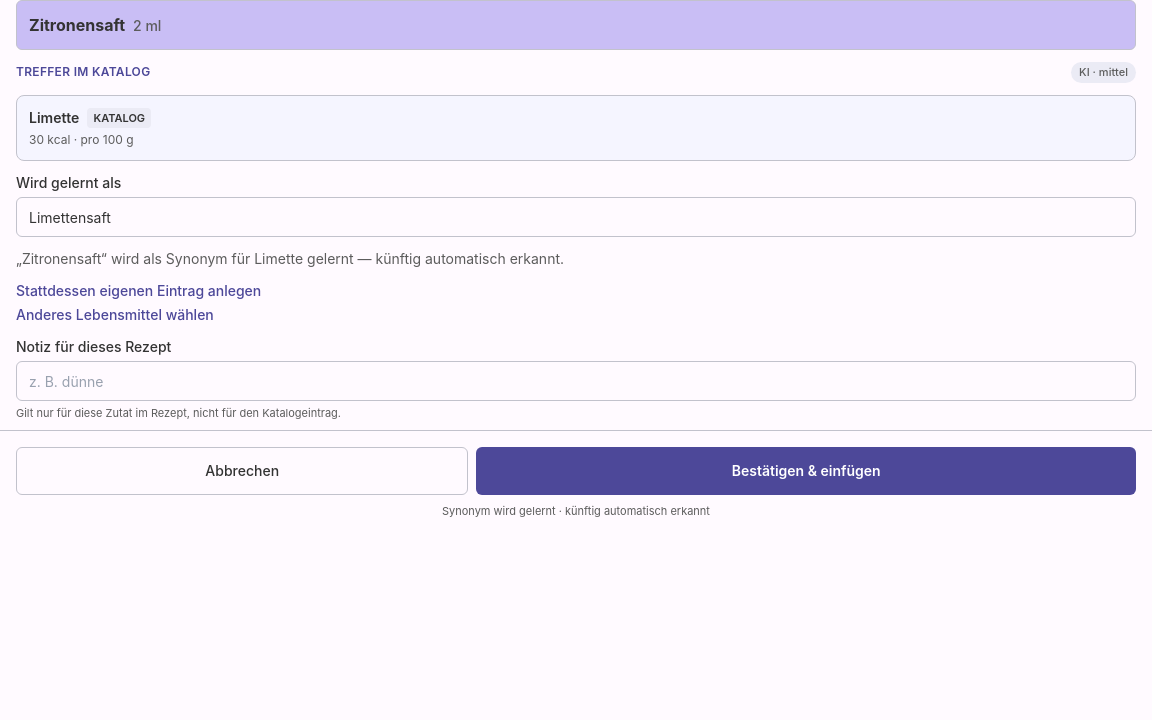
it: rejecting a synonym proposal for an own entry › opens the editor on a partial drafted entry instead of tearing down
This screenshot has width=1152, height=720.
Step 1. Click the button "Stattdessen eigenen Eintrag anlegen" → (139, 291), box [16,281,261,301]
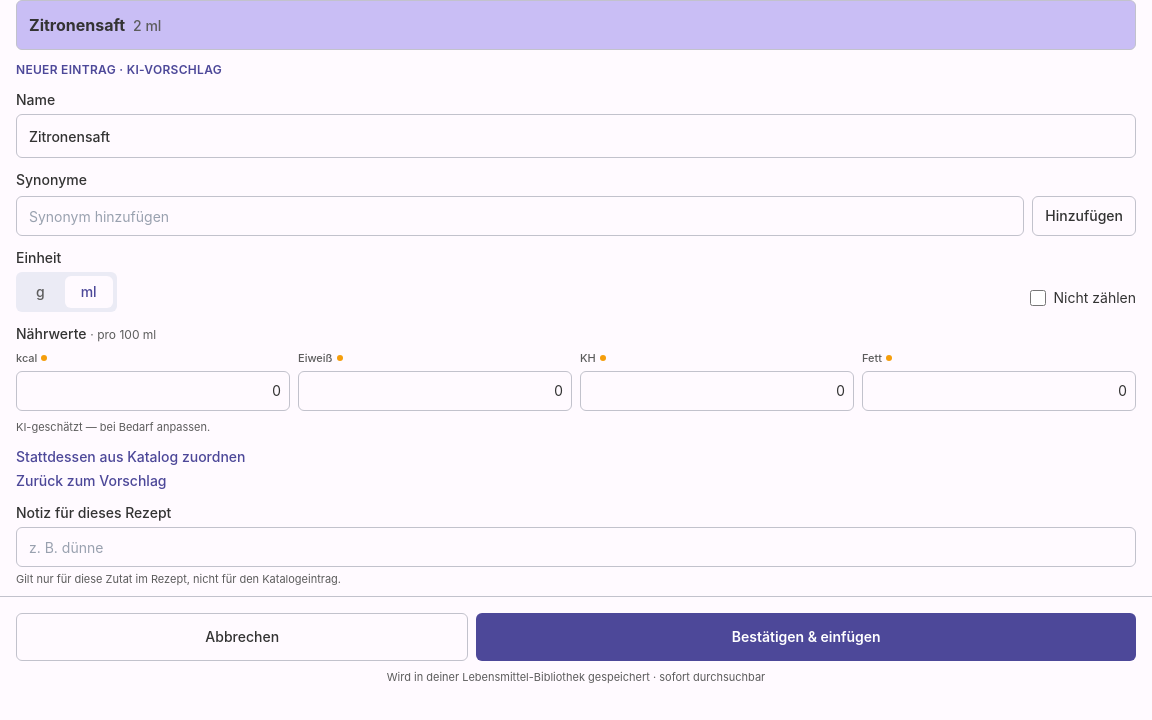
Expected: the field labelled "Name" holds "Zitronensaft", [16,114,1136,158]
Expected: the field labelled "kcal" holds "0", [16,370,290,410]
